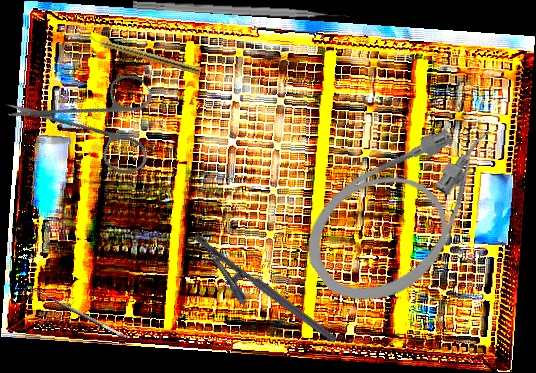Cannula: (284, 98, 536, 326)
Handpiece: (88, 34, 202, 75)
Hook Surgical: (21, 281, 128, 348)
Iris Scissors: (1, 28, 186, 213)
Needle Holder: (178, 231, 339, 364)
Pusher: (132, 0, 351, 24)
